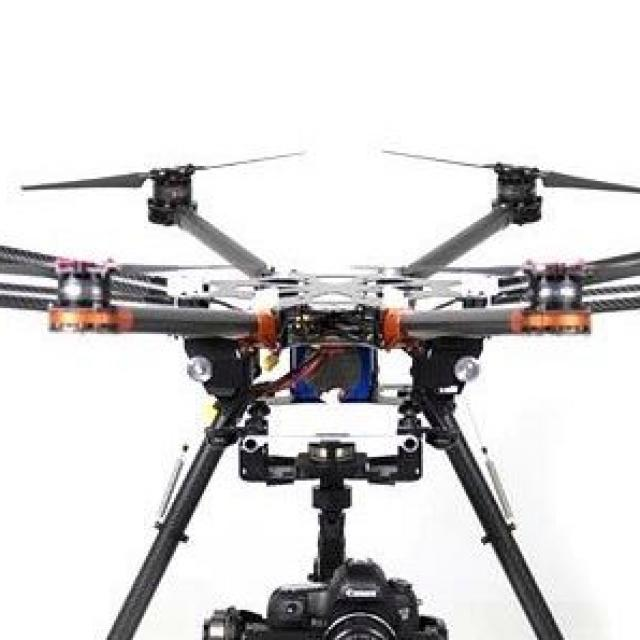drone: (0, 129, 640, 522)
